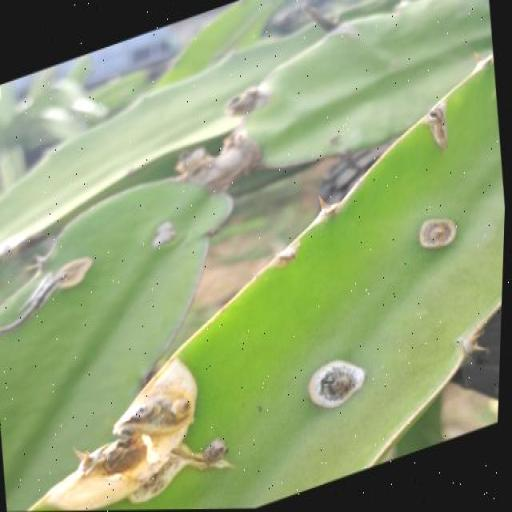stemcanker: (414, 208, 466, 253)
